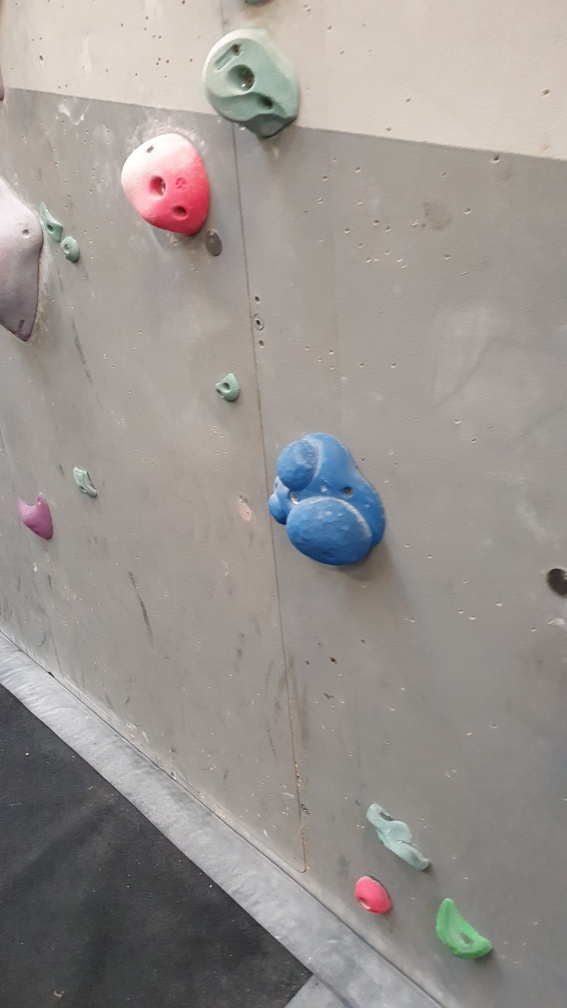Sloper: (263, 431, 388, 572)
